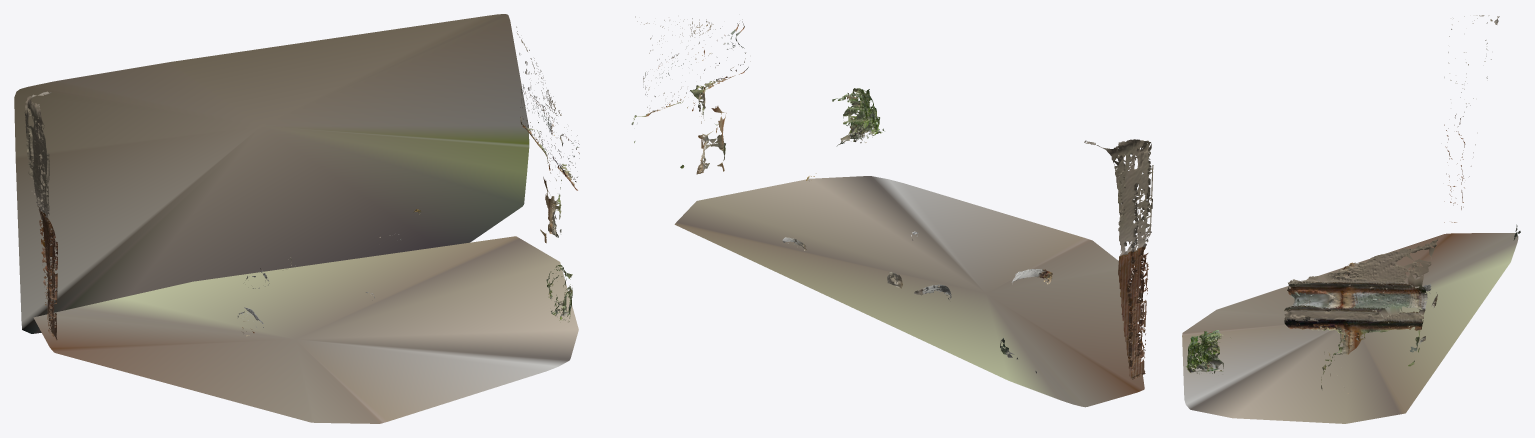
The picture shows the model from 3 angles, left to right: view 1: azimuth 30°, elevation 25°; view 2: azimuth 150°, elevation 25°; view 3: azimuth 270°, elevation 25°; orthographic projection. The views are drawn at different scales.
Size of the model in its own units: 0.3617 by 0.1781 by 0.2322.
